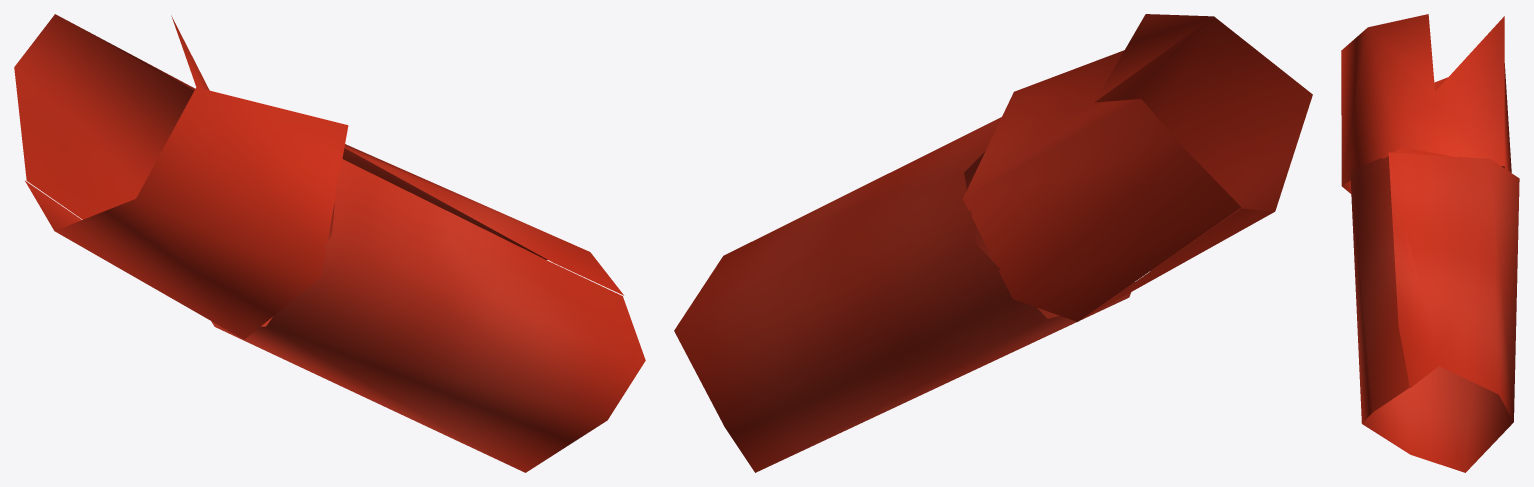
The model's file is nero_antebrazo_1.obj.
The picture shows the model from 3 angles, left to right: view 1: azimuth 30°, elevation 25°; view 2: azimuth 150°, elevation 25°; view 3: azimuth 270°, elevation 25°; orthographic projection. The views are drawn at different scales.
Parts seen in each view (by area): view 1: ante_brazo_1_Body_TDA_Saber_Nero.003; view 2: ante_brazo_1_Body_TDA_Saber_Nero.003; view 3: ante_brazo_1_Body_TDA_Saber_Nero.003.
Boxes of the visible parts, box(x1,y1,x2,y2) form: ante_brazo_1_Body_TDA_Saber_Nero.003: box(14, 14, 645, 472); ante_brazo_1_Body_TDA_Saber_Nero.003: box(674, 14, 1312, 472); ante_brazo_1_Body_TDA_Saber_Nero.003: box(1341, 14, 1519, 472).
Bounding box in the file's own units: 0.4209 × 0.3875 × 0.1821.
